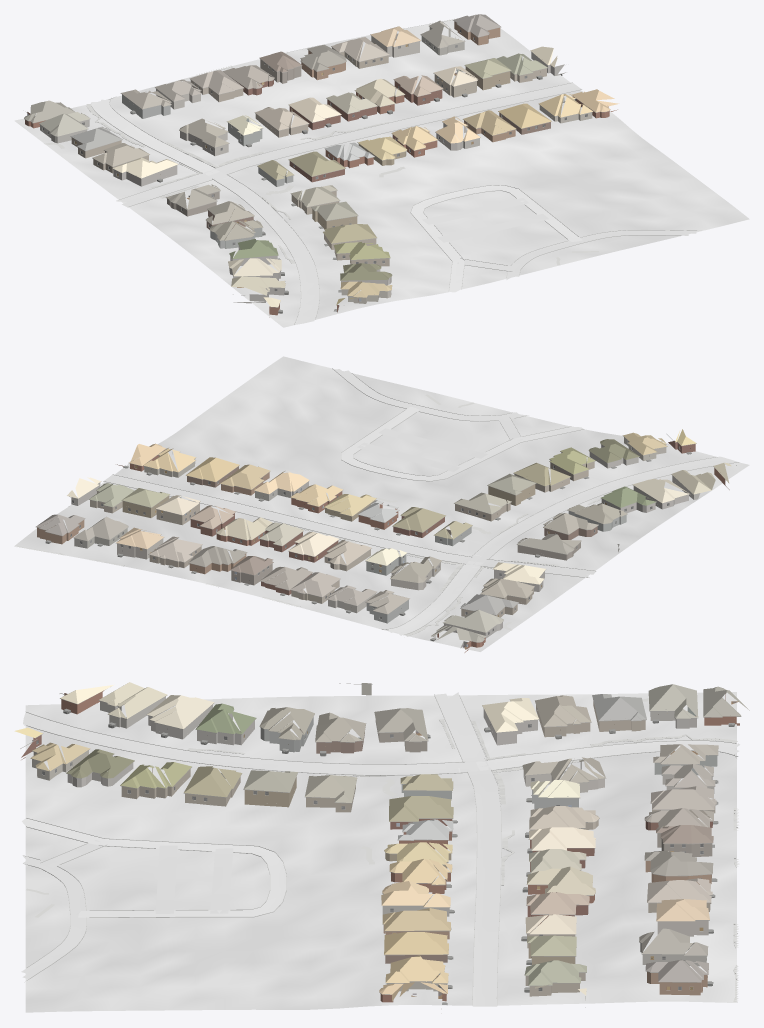
The picture shows the model from 3 angles, top to bottom: view 1: azimuth 30°, elevation 25°; view 2: azimuth 150°, elevation 25°; view 3: azimuth 270°, elevation 25°; orthographic projection. The views are drawn at different scales.
Visible parts, largest first — view 1: ground, roof, concrete, wall, wall_stucco, detail, curb, wall_stone, walk; view 2: ground, roof, concrete, wall, wall_stucco, detail, curb, wall_stone, walk, glass; view 3: ground, roof, concrete, wall, wall_stucco, detail, curb, wall_stone, walk.
Boxes of the visible parts, x1,y1,x2,y2 form: ground: [14, 20, 749, 327]; roof: [24, 14, 619, 307]; concrete: [91, 83, 696, 324]; wall: [25, 21, 617, 317]; wall_stucco: [122, 27, 592, 303]; detail: [24, 20, 609, 313]; curb: [89, 20, 701, 324]; wall_stone: [40, 52, 566, 303]; walk: [44, 15, 598, 265]; ground: [14, 356, 749, 651]; roof: [36, 429, 731, 642]; concrete: [104, 369, 738, 635]; wall: [37, 440, 729, 652]; wall_stucco: [74, 437, 666, 623]; detail: [36, 434, 736, 646]; curb: [103, 368, 739, 636]; wall_stone: [71, 444, 700, 638]; walk: [15, 394, 612, 636]; glass: [70, 441, 680, 634]; ground: [25, 692, 736, 1012]; roof: [14, 682, 749, 1001]; concrete: [21, 692, 739, 1006]; wall: [21, 690, 739, 1002]; wall_stucco: [32, 683, 717, 996]; detail: [20, 683, 741, 1005]; curb: [23, 693, 738, 1005]; wall_stone: [67, 696, 696, 1007]; walk: [26, 698, 739, 1001].
Size of the model in its own units: 264 by 18.33 by 259.
